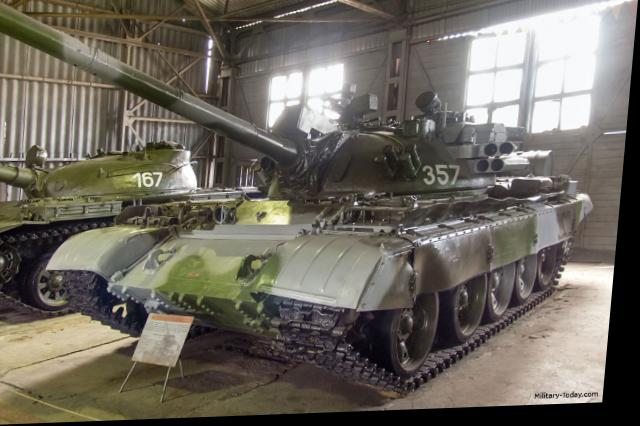tank: (77, 113, 580, 392), (0, 103, 252, 307)
